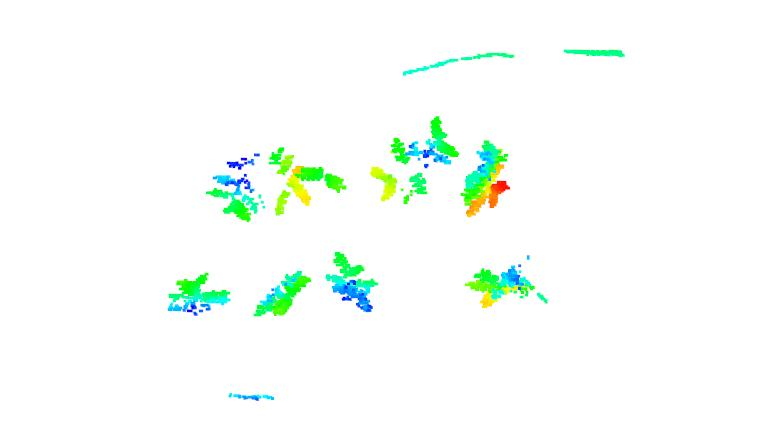chickpea: (370, 115, 457, 202), (266, 150, 352, 214), (206, 152, 260, 222), (463, 139, 512, 216), (323, 249, 380, 313), (463, 267, 539, 308), (251, 269, 313, 317), (166, 273, 229, 314)
